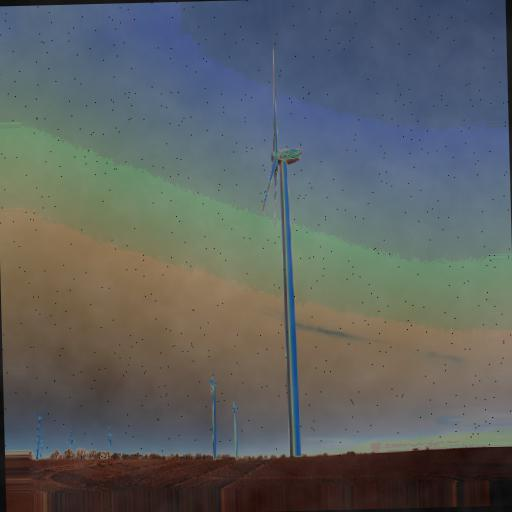wind turbine: (260, 47, 305, 453)
